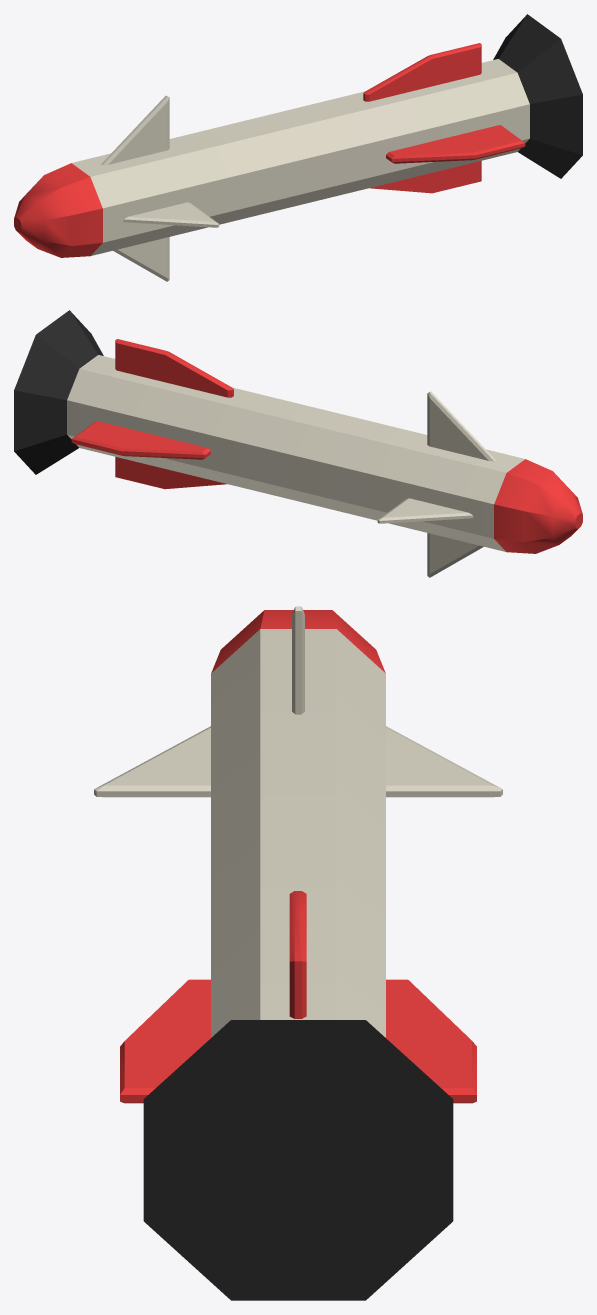
The model's file is Rocket.fbx.
The picture shows the model from 3 angles, top to bottom: view 1: azimuth 30°, elevation 25°; view 2: azimuth 150°, elevation 25°; view 3: azimuth 270°, elevation 25°; orthographic projection. The views are drawn at different scales.
Visible parts, largest first — view 1: Rocket; view 2: Rocket; view 3: Rocket.
Boxes of the visible parts, x1=… form: Rocket: x1=14, y1=14, x2=582, y2=281; Rocket: x1=14, y1=310, x2=582, y2=577; Rocket: x1=94, y1=606, x2=502, y2=1300.
Size of the model in its own units: 760 by 255 by 255.
